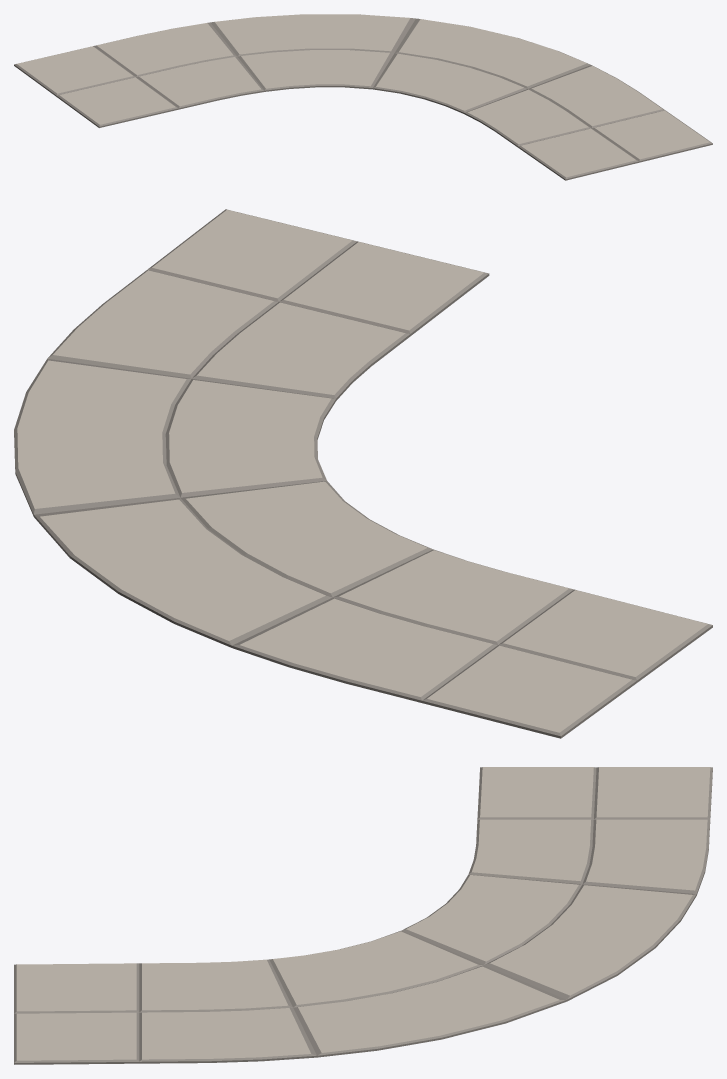
The model's file is Path_Slab_Thick_Bend.fbx.
3 views of the same model, one above another, from view 1: azimuth 30°, elevation 25°; view 2: azimuth 150°, elevation 25°; view 3: azimuth 270°, elevation 25° (orthographic). The views are drawn at different scales.
Parts seen in each view (by area): view 1: Slab_Thick_Bend; view 2: Slab_Thick_Bend; view 3: Slab_Thick_Bend.
Part boxes in pixels (x1,y1,x2,y2): Slab_Thick_Bend: (14,14,712,180); Slab_Thick_Bend: (14,209,712,738); Slab_Thick_Bend: (14,767,712,1064).
Bounding box in the file's own units: 601 × 2.85 × 600.
